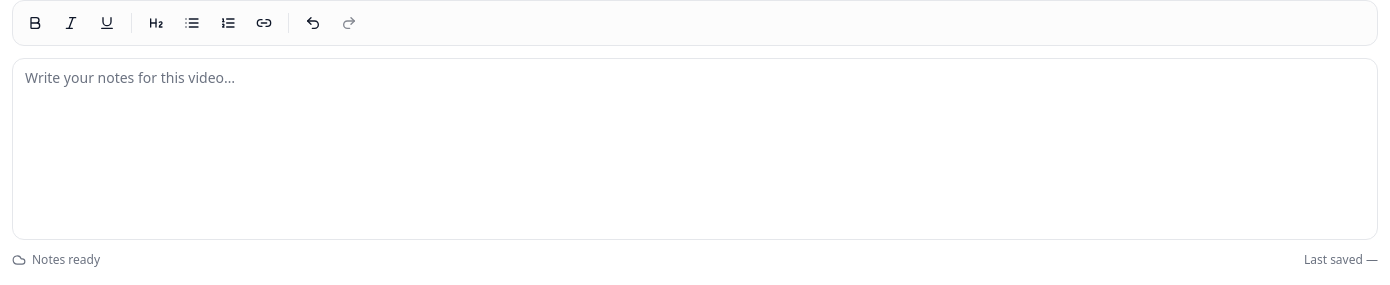
Test case: notes editor › autosaves edited content with the current version and reports success
Expected: the text "Notes ready" is shown, [12,252,100,268]
Click the text box named "Video notes editor" at {"x": 695, "y": 149}, box [13,59,1377,239]
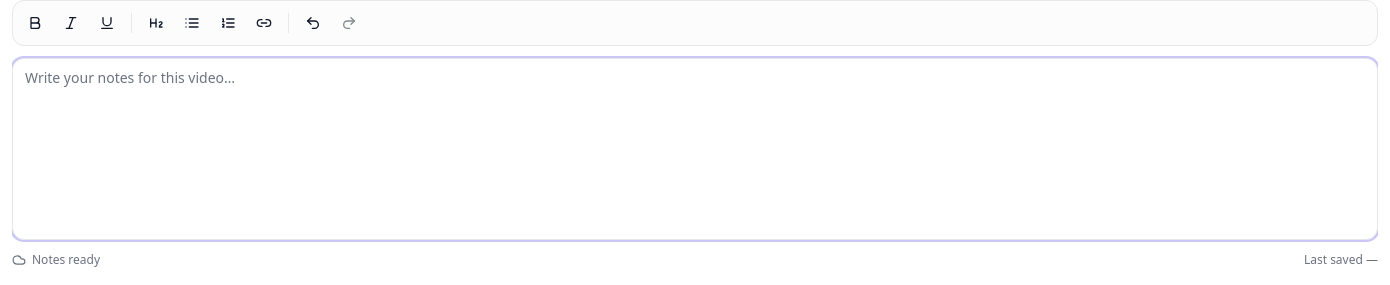
Type keys "Hello from my notes"
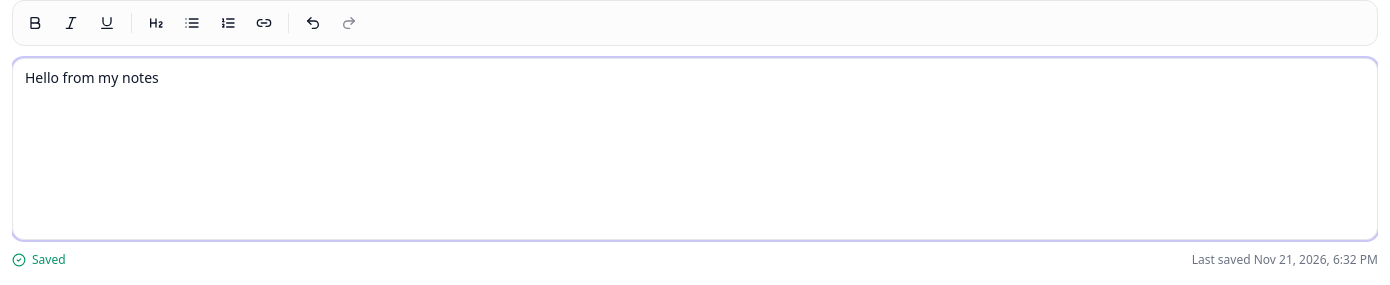
Expected: the text "Saved" is shown, [12,252,66,268]
